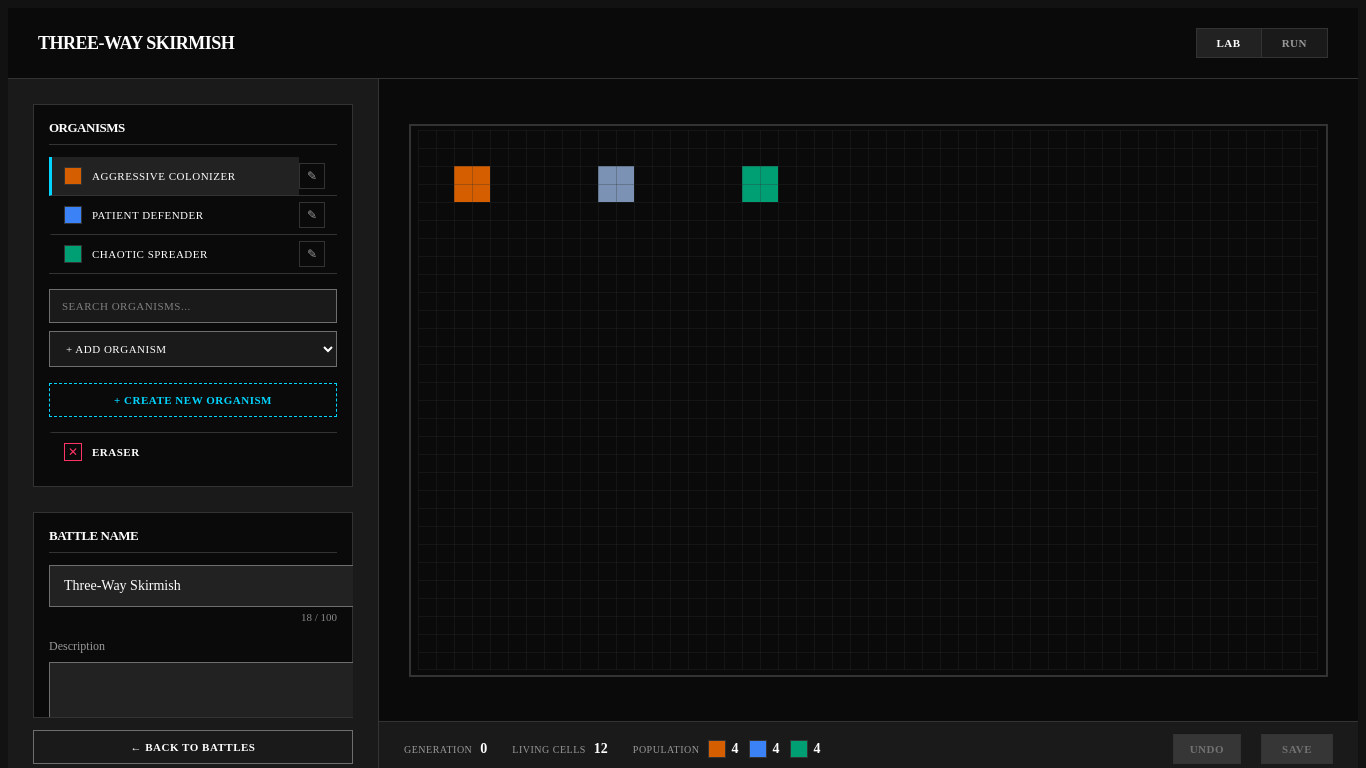
Test case: BattlePage — edit organism from battle (Story 4.24) › N = 0 (a session-added, unpainted organism) opens the editor directly (AC3)
Check: the heading "Three-Way Skirmish" is shown, box [38,32,234,54]
Select "Lonely Glider" in the dropdown named "add organism" at (193, 349), box [49,331,337,367]
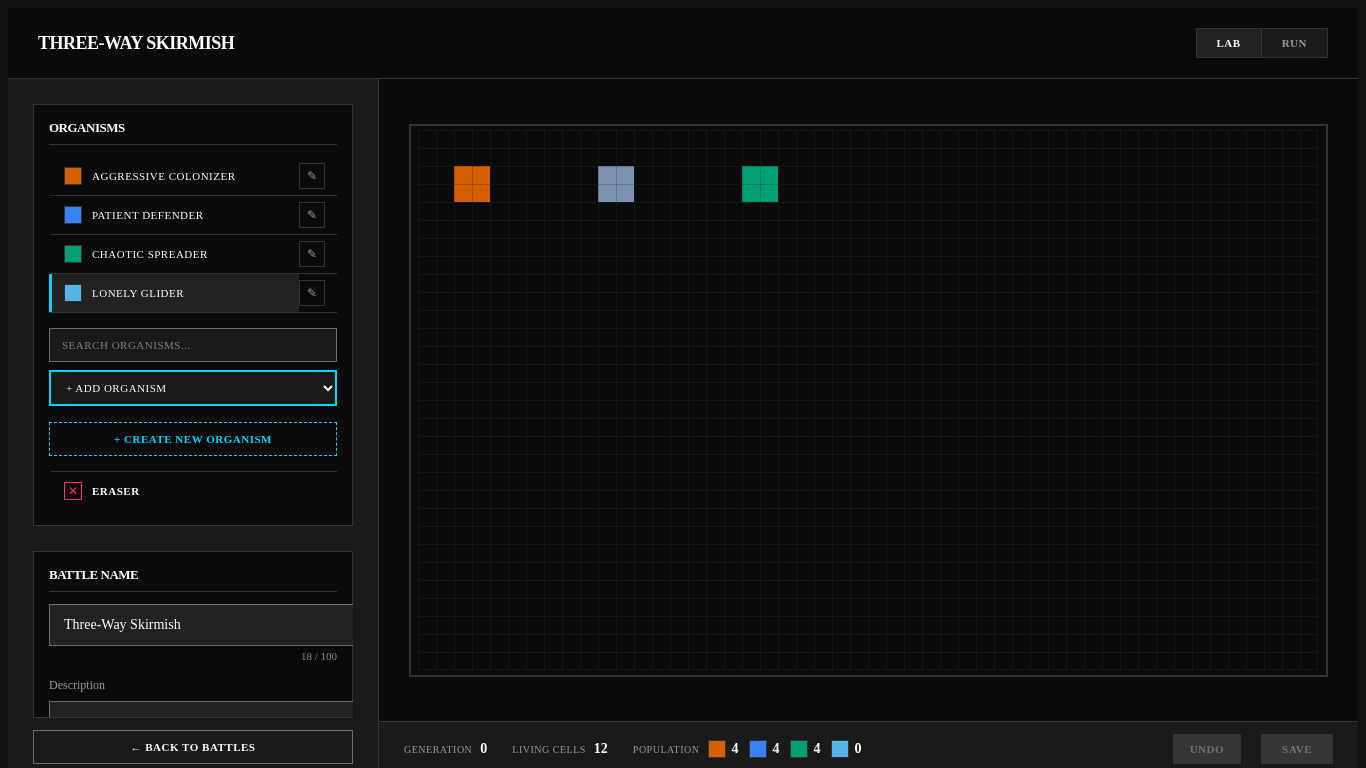
Click the 4th button "✎" at (312, 293), box [299,280,325,306]
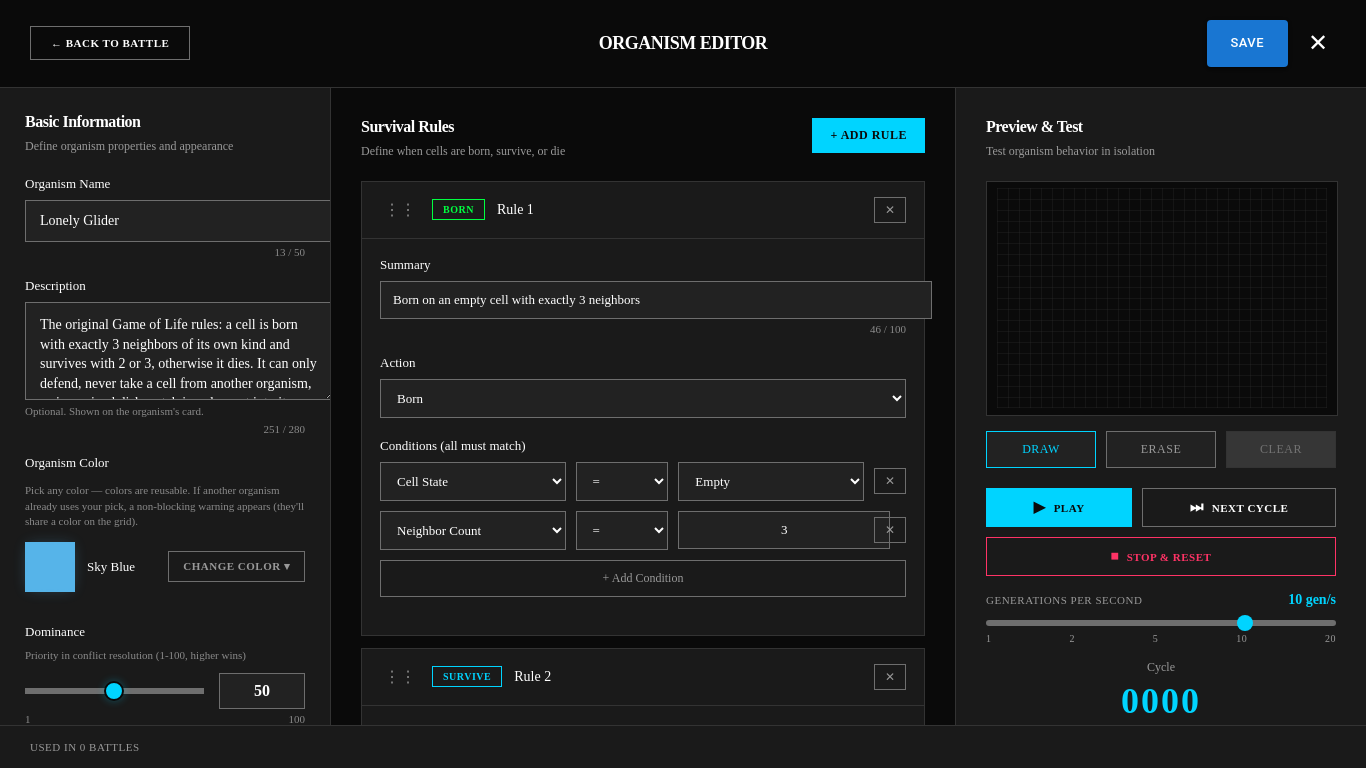
Check: the field labelled "Organism Name" holds "Lonely Glider", box [25,200,331,242]
